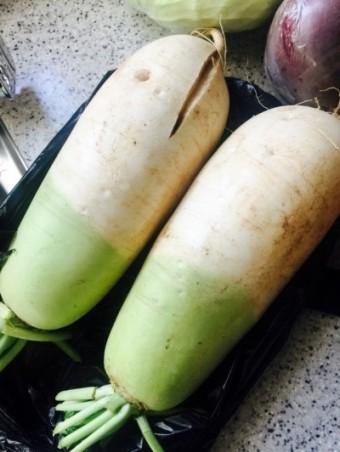radish: (0, 18, 125, 244), (57, 74, 181, 293)
